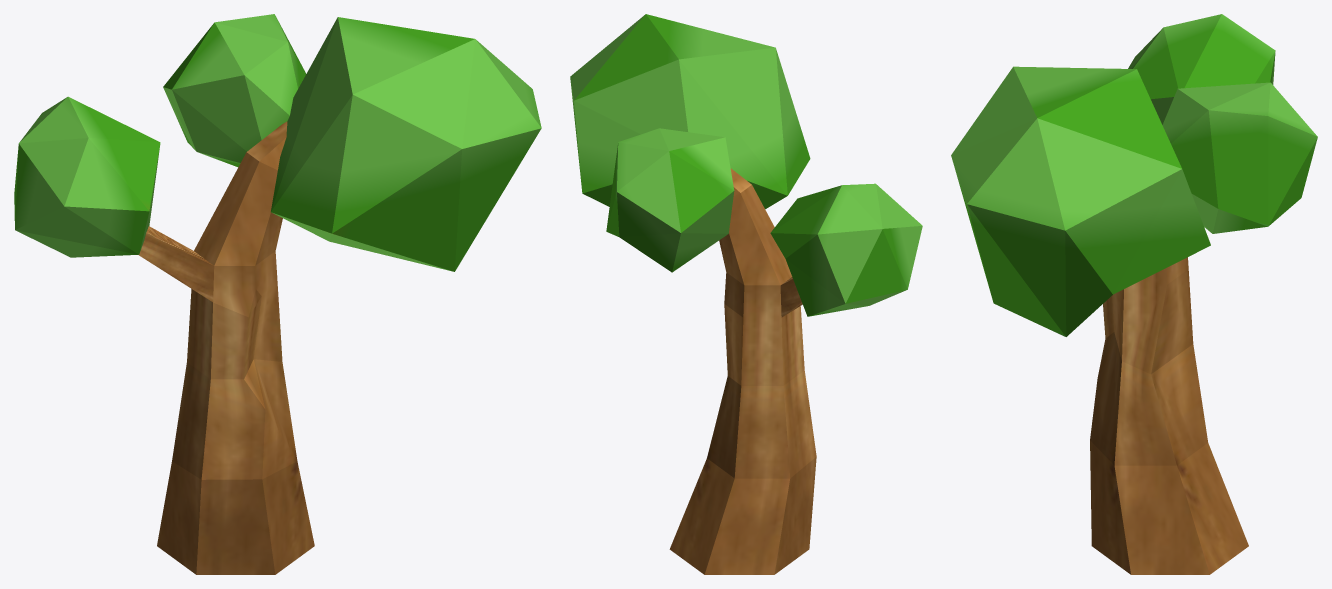
The model's file is 20200816_Wood1.fbx.
3 renders of one model, left to right at view 1: azimuth 30°, elevation 25°; view 2: azimuth 150°, elevation 25°; view 3: azimuth 270°, elevation 25°, orthographic. The views are drawn at different scales.
Parts seen in each view (by area): view 1: Cylinder; view 2: Cylinder; view 3: Cylinder.
Boxes of the visible parts, box(x1,y1,x2,y2) form: Cylinder: box(14, 14, 541, 574); Cylinder: box(570, 14, 922, 574); Cylinder: box(951, 14, 1317, 574).
Size of the model in its own units: 657 by 727 by 466.
